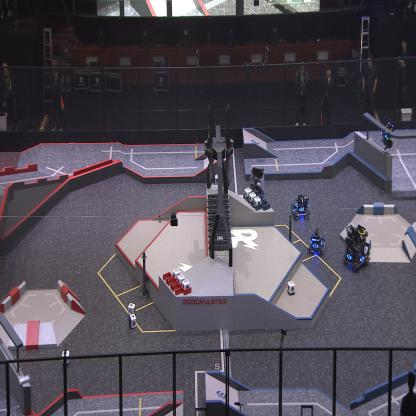car: (342, 222, 373, 270), (244, 166, 266, 207), (307, 226, 327, 256), (290, 192, 311, 220)
